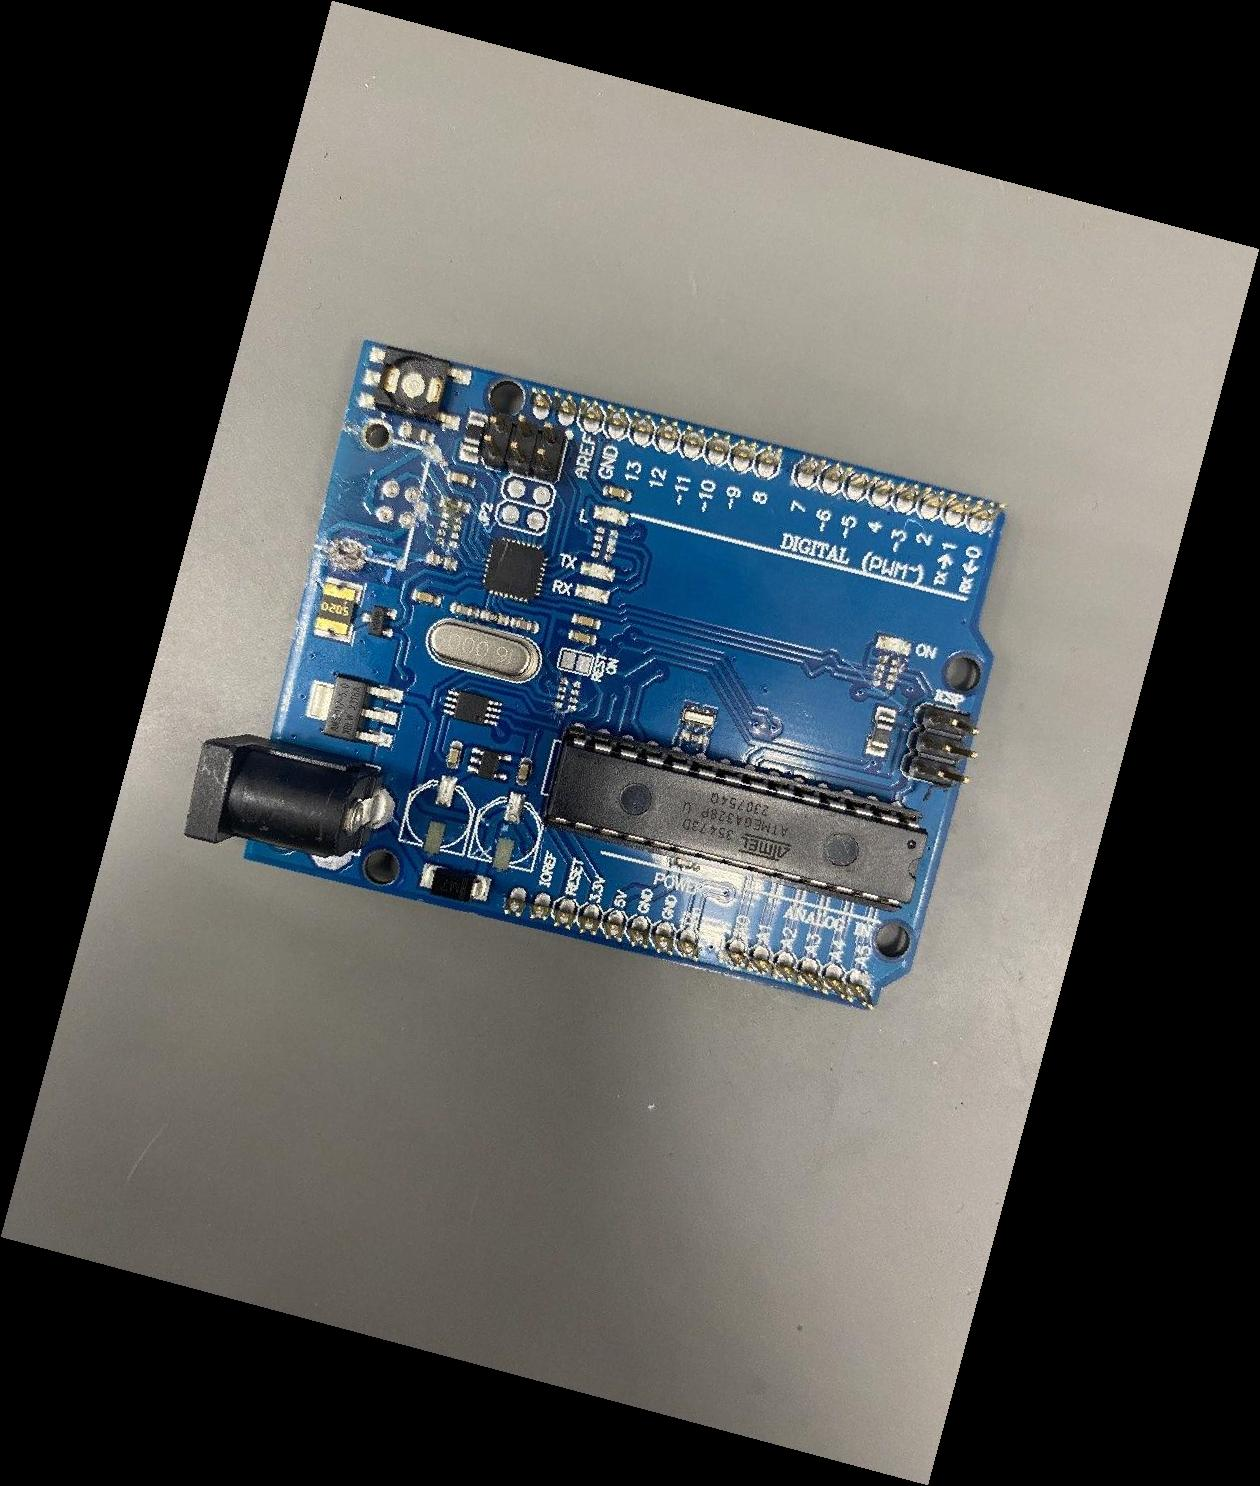ATmega328 chip: (541, 727, 927, 912)
Arduino board: (182, 339, 1006, 1010)
